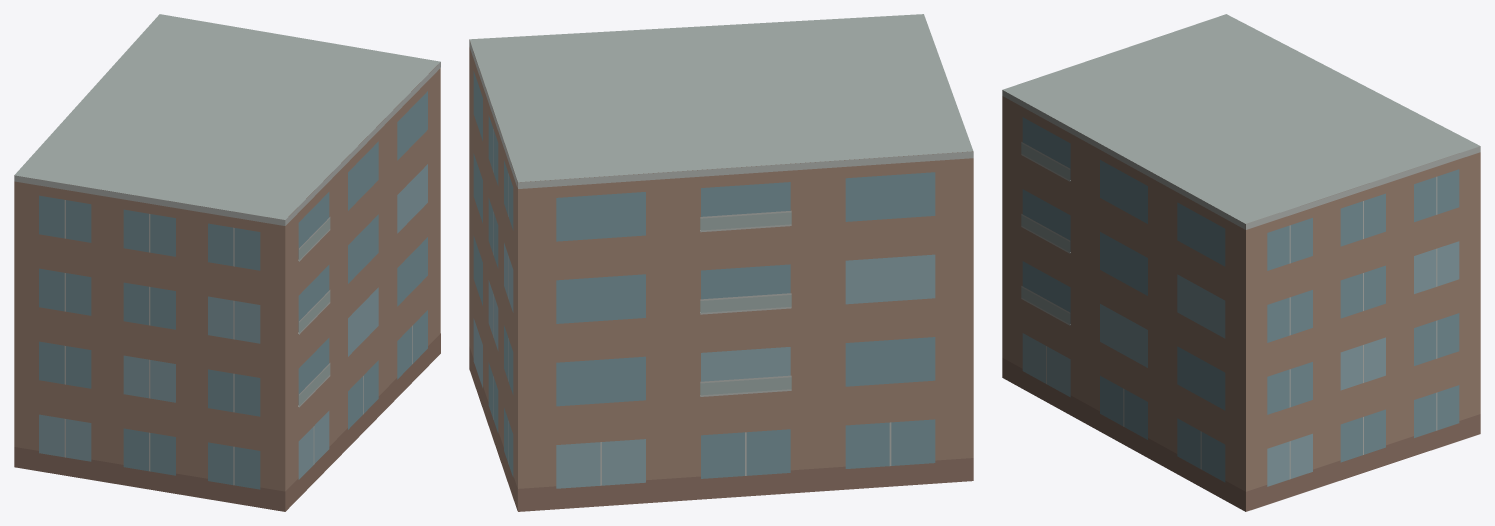
The model's file is survey-upis-32646879.glb.
The picture shows the model from 3 angles, left to right: view 1: azimuth 30°, elevation 25°; view 2: azimuth 150°, elevation 25°; view 3: azimuth 270°, elevation 25°; orthographic projection. The views are drawn at different scales.
Visible parts, largest first — view 1: survey-upis-32646879.tmp; view 2: survey-upis-32646879.tmp; view 3: survey-upis-32646879.tmp.
Boxes of the visible parts, left/top/right/bottom form: survey-upis-32646879.tmp: left=14, top=14, right=440, bottom=511; survey-upis-32646879.tmp: left=469, top=14, right=973, bottom=511; survey-upis-32646879.tmp: left=1002, top=14, right=1480, bottom=511.
Size of the model in its own units: 18.32 by 11.7 by 17.63.
